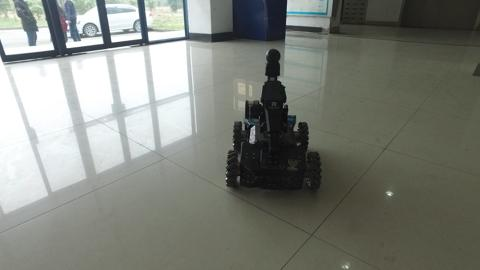car: (60, 1, 156, 38)
chariot: (222, 46, 323, 192)
